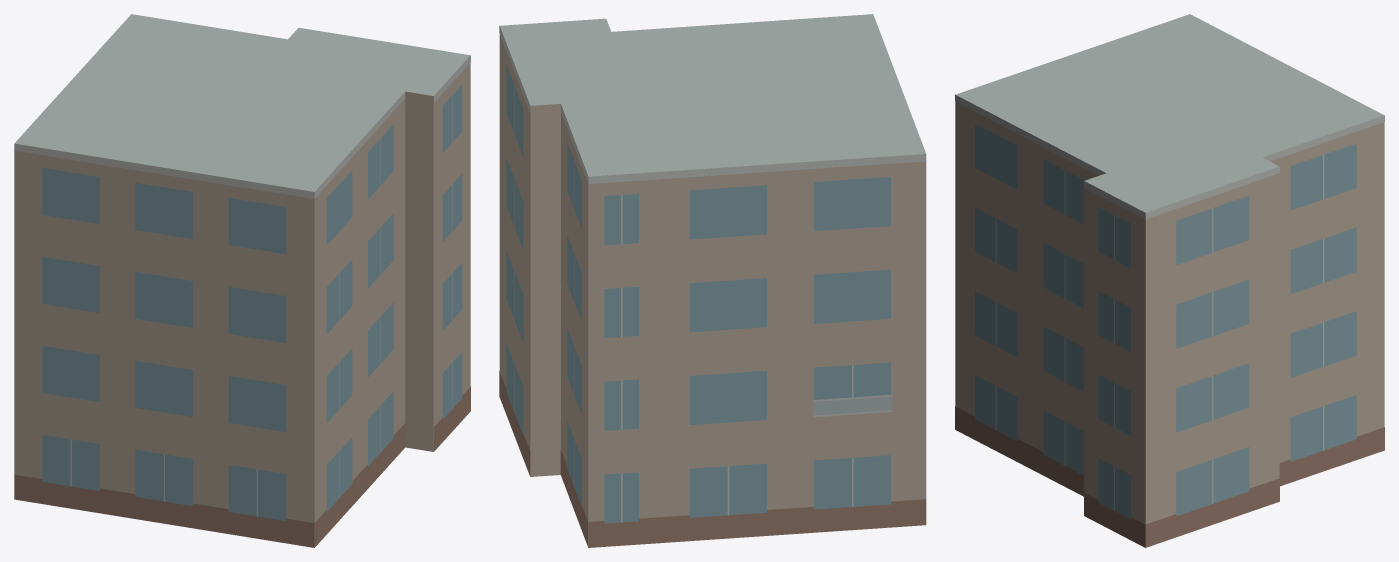
The model's file is residential-9de98902-85e3-4585-a656-4d8da17570ea.glb.
The picture shows the model from 3 angles, left to right: view 1: azimuth 30°, elevation 25°; view 2: azimuth 150°, elevation 25°; view 3: azimuth 270°, elevation 25°; orthographic projection. The views are drawn at different scales.
Parts seen in each view (by area): view 1: residential-9de98902-85e3-4585-a656-4d8da17570ea.tmp; view 2: residential-9de98902-85e3-4585-a656-4d8da17570ea.tmp; view 3: residential-9de98902-85e3-4585-a656-4d8da17570ea.tmp.
Boxes of the visible parts, bbox=[...] form: residential-9de98902-85e3-4585-a656-4d8da17570ea.tmp: bbox=[14, 14, 470, 547]; residential-9de98902-85e3-4585-a656-4d8da17570ea.tmp: bbox=[499, 14, 926, 547]; residential-9de98902-85e3-4585-a656-4d8da17570ea.tmp: bbox=[955, 14, 1384, 547].
Bounding box in the file's own units: 15.53 × 12.2 × 14.18.
